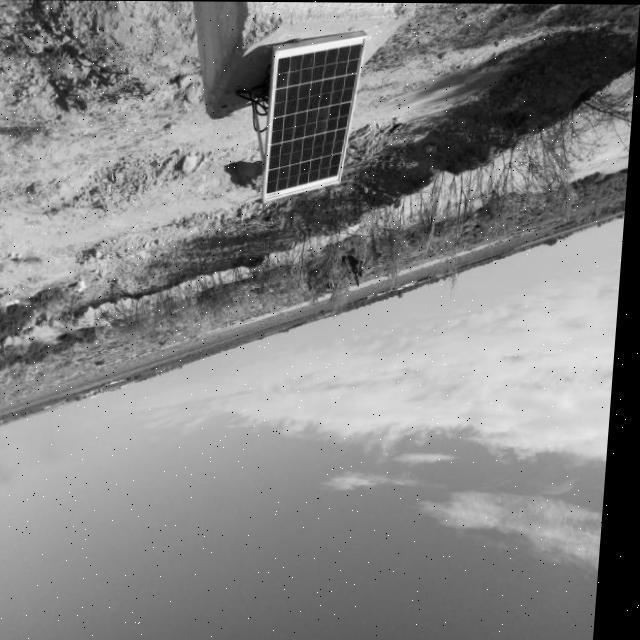Normal Solar Panel: (266, 34, 367, 200)
